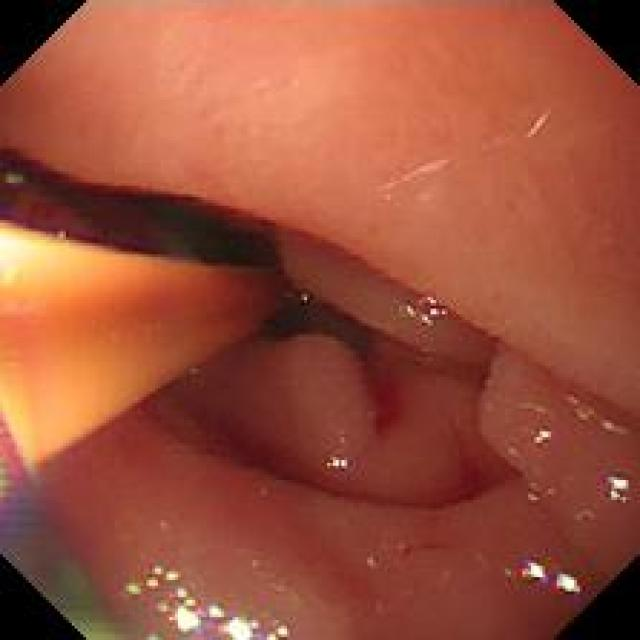color misalignment: (5, 446, 115, 630), (118, 564, 294, 633), (567, 392, 630, 442), (401, 289, 451, 331), (1, 164, 36, 200), (605, 467, 632, 505), (526, 419, 555, 452), (322, 450, 354, 479), (556, 572, 585, 601), (522, 560, 549, 586), (283, 289, 318, 309), (50, 227, 69, 242)
contrast: (124, 191, 295, 325)
instrument: (8, 226, 300, 453)
saturation: (1, 214, 113, 292)
specularity: (156, 587, 208, 631), (530, 421, 555, 453), (606, 473, 632, 503), (521, 560, 549, 585), (218, 619, 259, 636), (152, 565, 181, 584), (126, 575, 142, 599), (206, 602, 224, 623), (329, 455, 344, 474), (557, 581, 576, 596), (142, 578, 165, 588)
